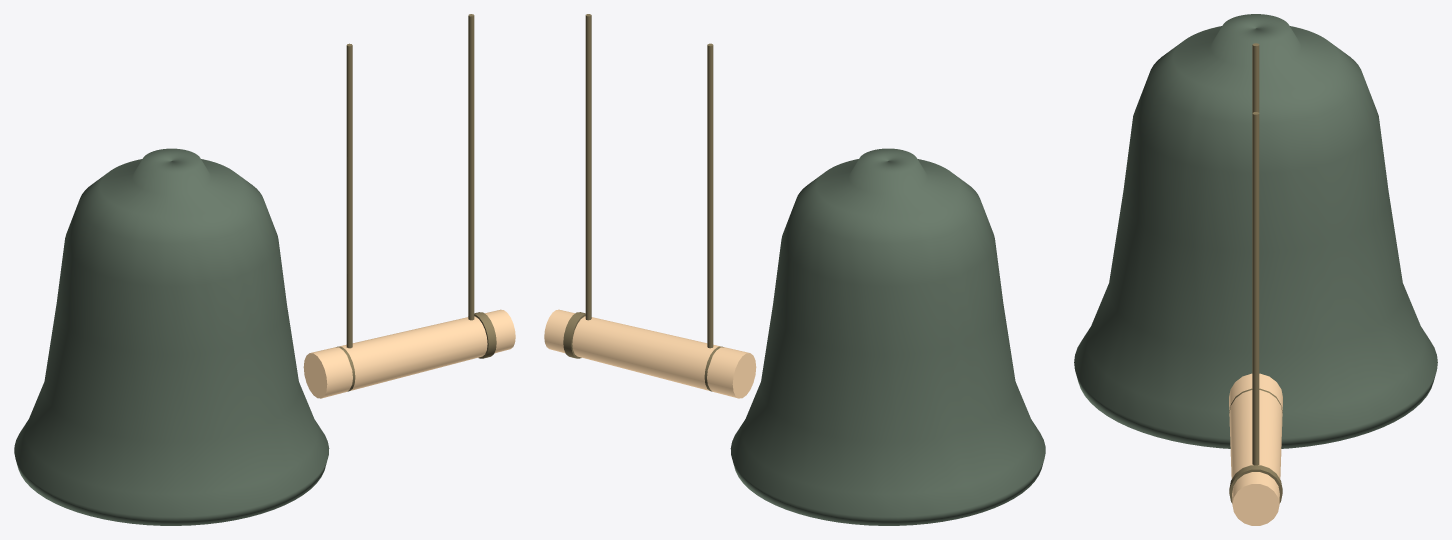
File: bell-pagoda.glb
The picture shows the model from 3 angles, left to right: view 1: azimuth 30°, elevation 25°; view 2: azimuth 150°, elevation 25°; view 3: azimuth 270°, elevation 25°; orthographic projection. The views are drawn at different scales.
Visible parts, largest first — view 1: 범종 · 청동 몸체, 범종 · 당목; view 2: 범종 · 청동 몸체, 범종 · 당목; view 3: 범종 · 청동 몸체, 범종 · 당목.
Part boxes in pixels (x1,y1,x2,y2): 범종 · 청동 몸체: (14, 148, 329, 525); 범종 · 당목: (303, 14, 515, 398); 범종 · 청동 몸체: (730, 148, 1045, 525); 범종 · 당목: (544, 14, 756, 398); 범종 · 청동 몸체: (1074, 14, 1437, 448); 범종 · 당목: (1229, 43, 1282, 525).
Size of the model in its own units: 3.86 by 2.95 by 2.24.
